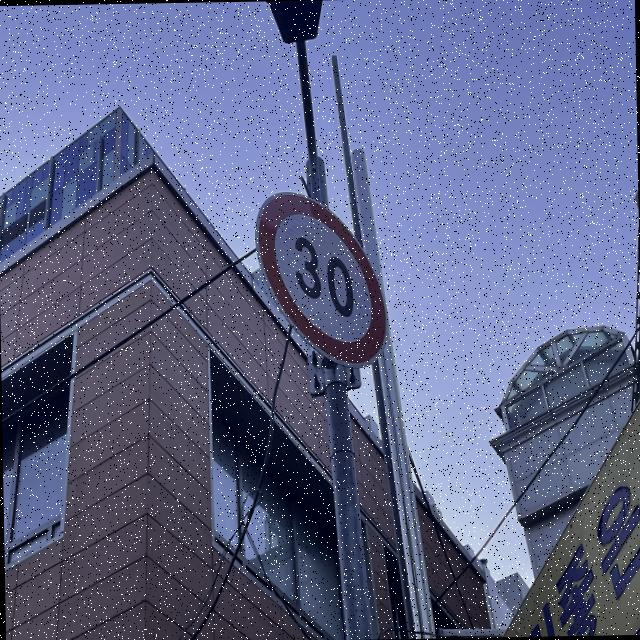Ograniczenie predkosci do 30: (258, 190, 385, 376)
